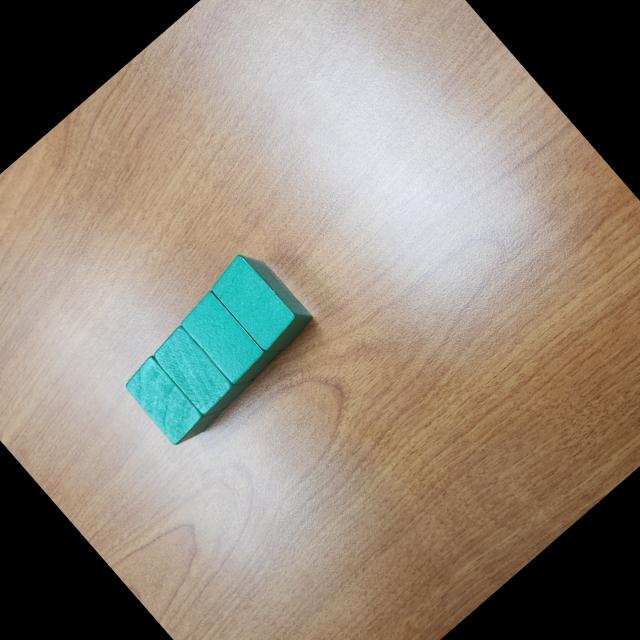green: (204, 243, 319, 362), (175, 279, 288, 395), (120, 340, 230, 454), (148, 312, 258, 424)
